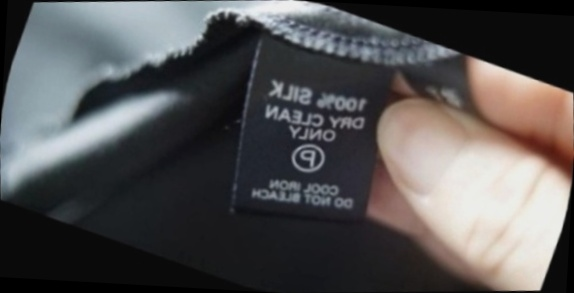dry_clean_any_solvent_except_trichloroethylene: (279, 129, 336, 185)
